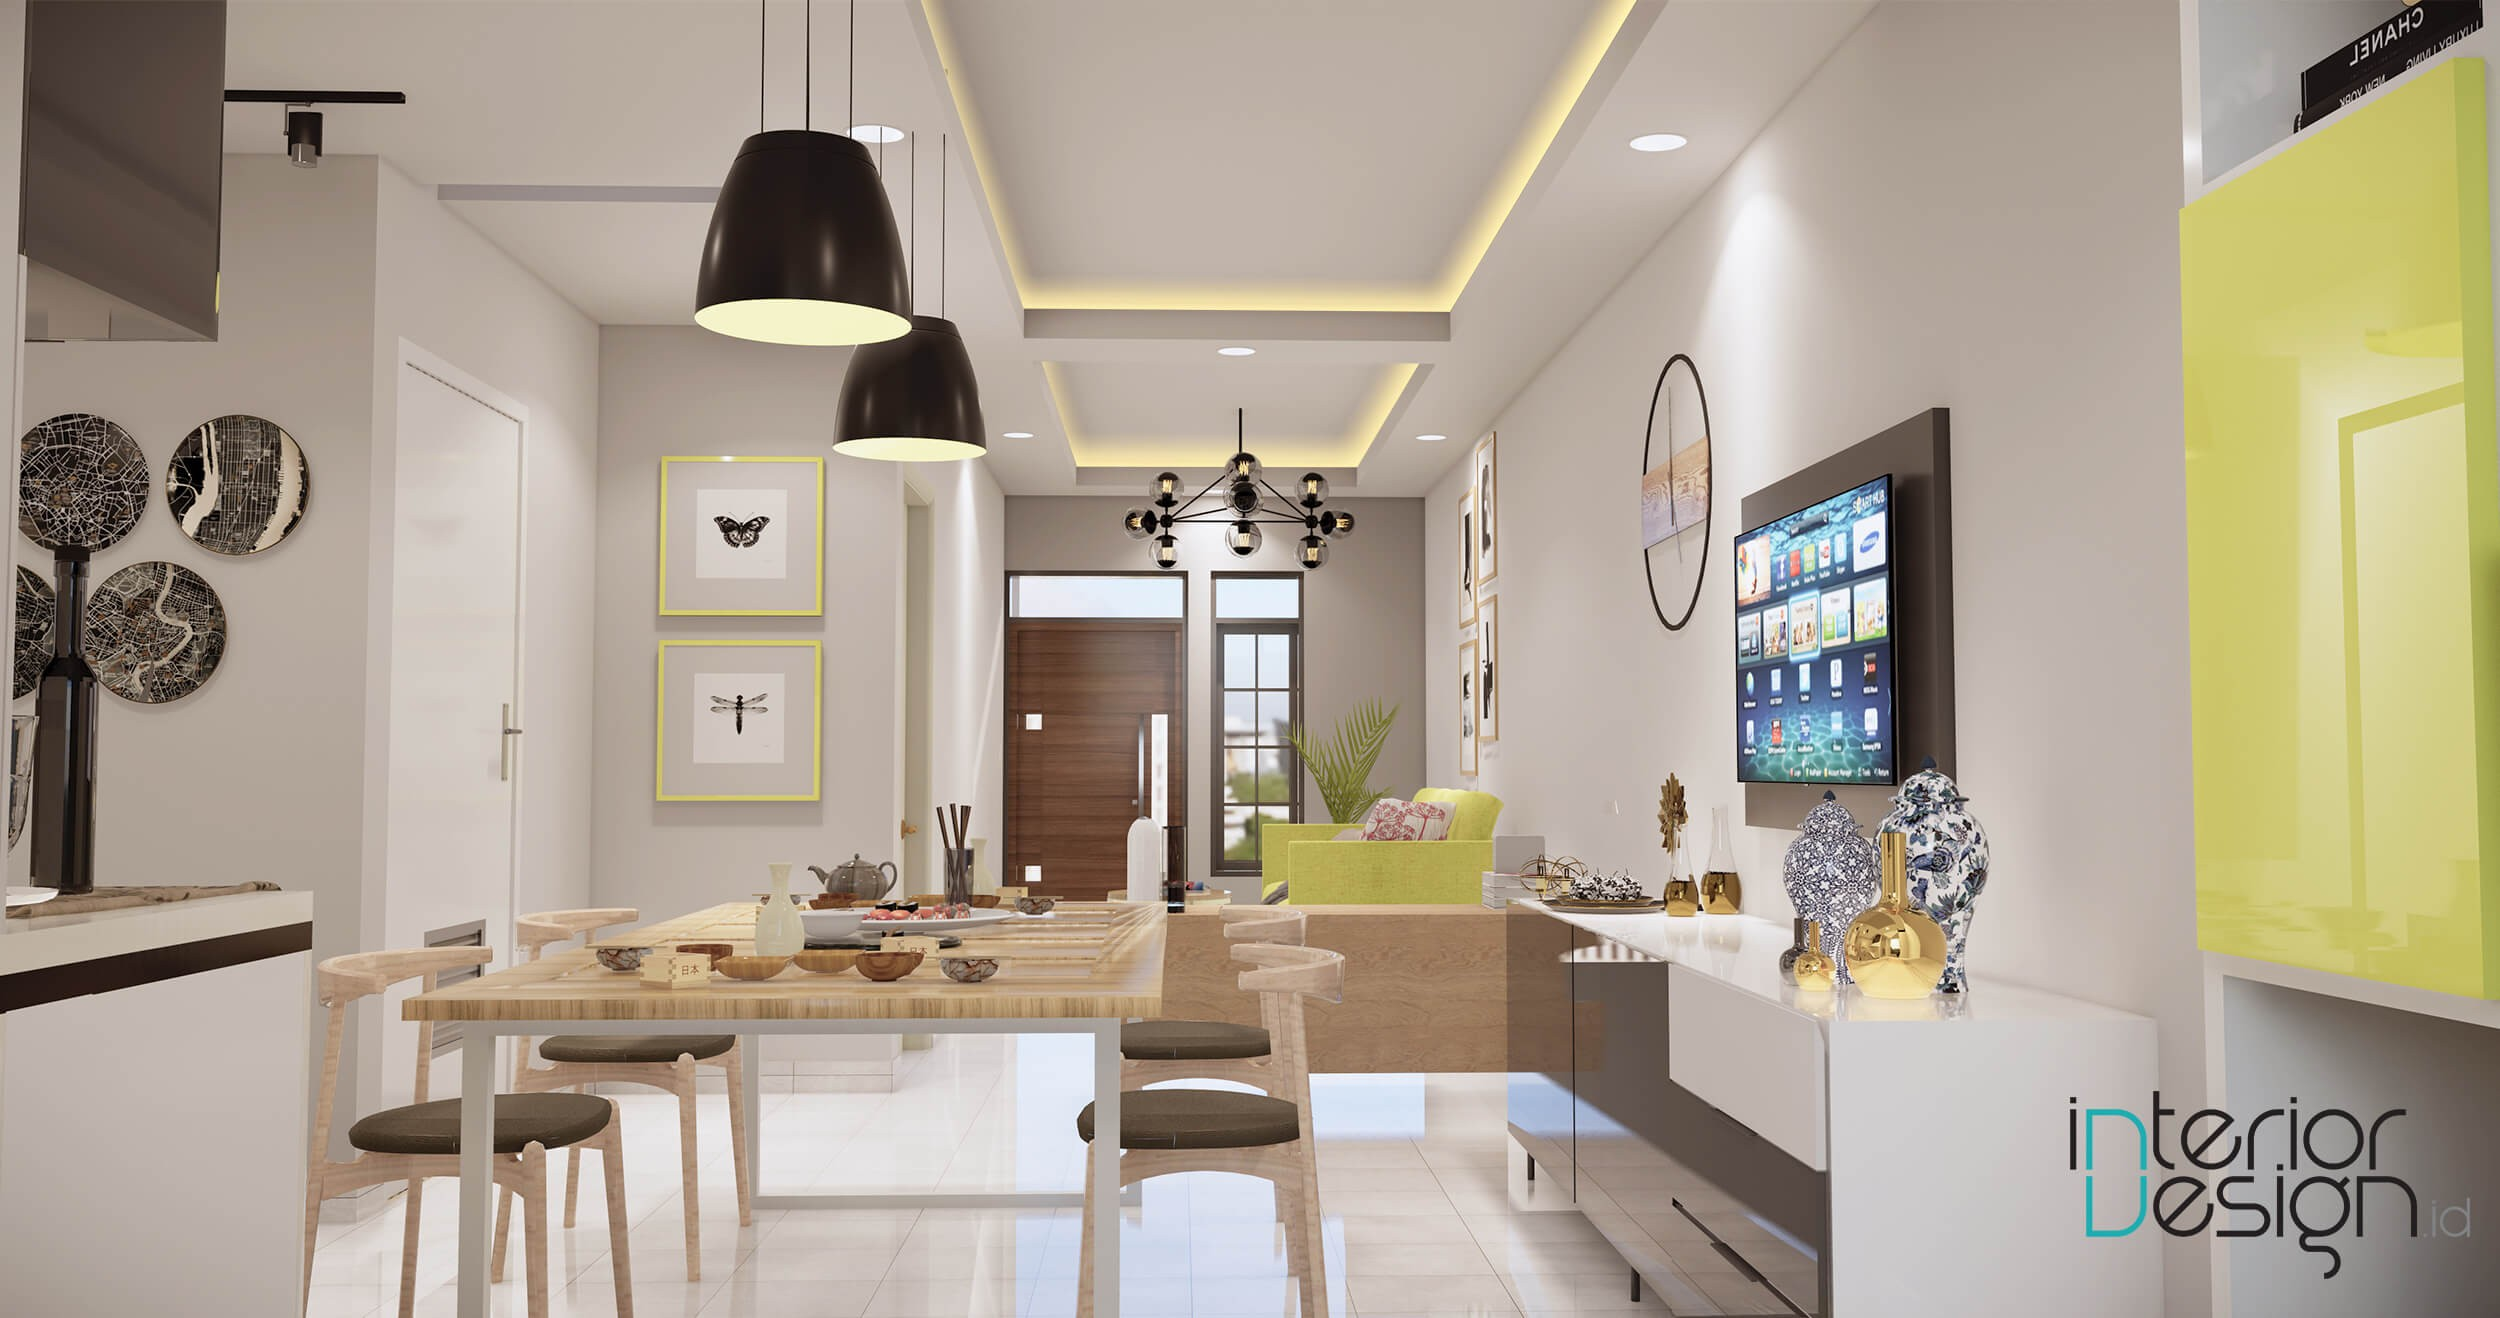kursi: (316, 913, 633, 1308), (1134, 936, 1353, 1313)
lampu: (680, 127, 919, 369), (838, 308, 994, 463)
lukisan: (646, 637, 838, 819), (651, 450, 838, 632)
meja: (438, 890, 1134, 1318)
tv: (1725, 468, 1920, 795)
